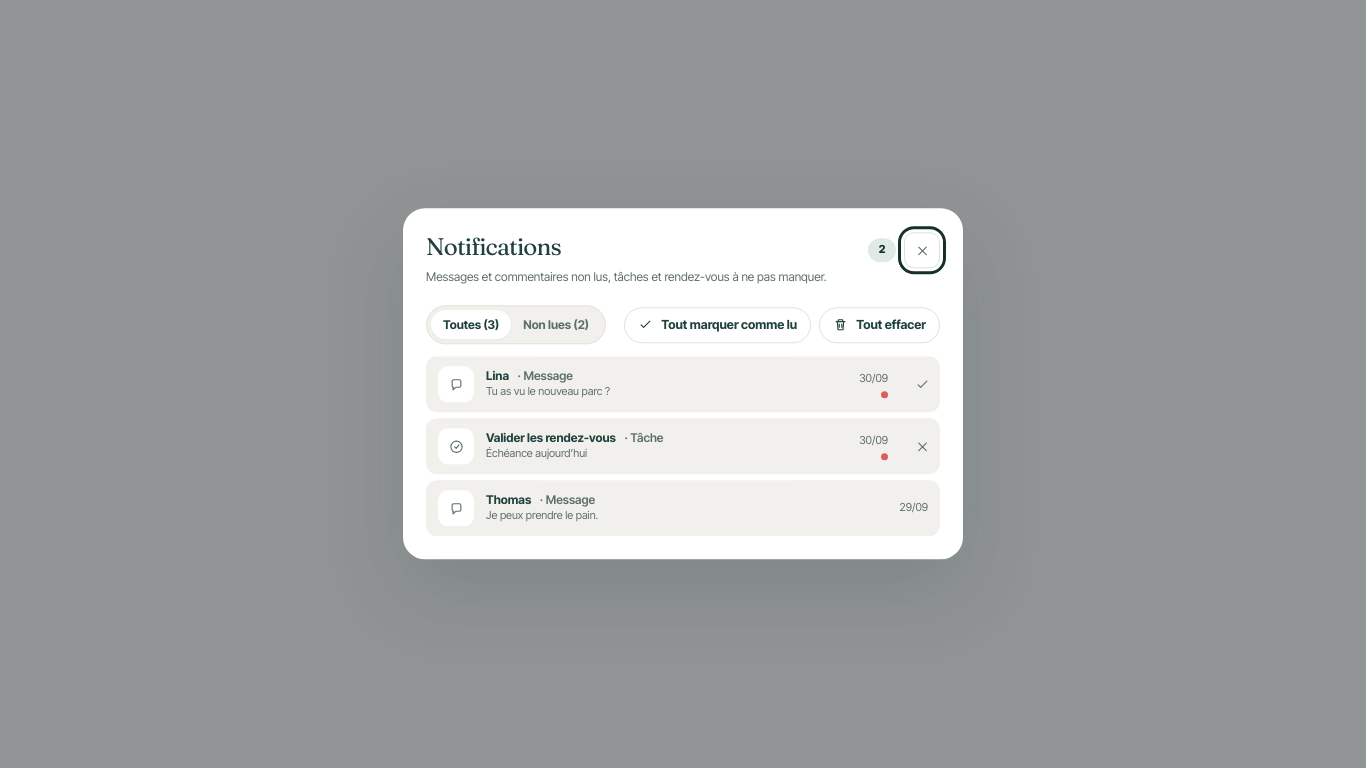
NotificationsDialog › filtre Toutes / Non lues, lus récents exclus des Non lues
The image size is (1366, 768).
Check: the text "Thomas" is shown, box [486,493,531,508]
Step 1. Click the button "Non lues (2)" → (556, 325), box [511,310,601,340]
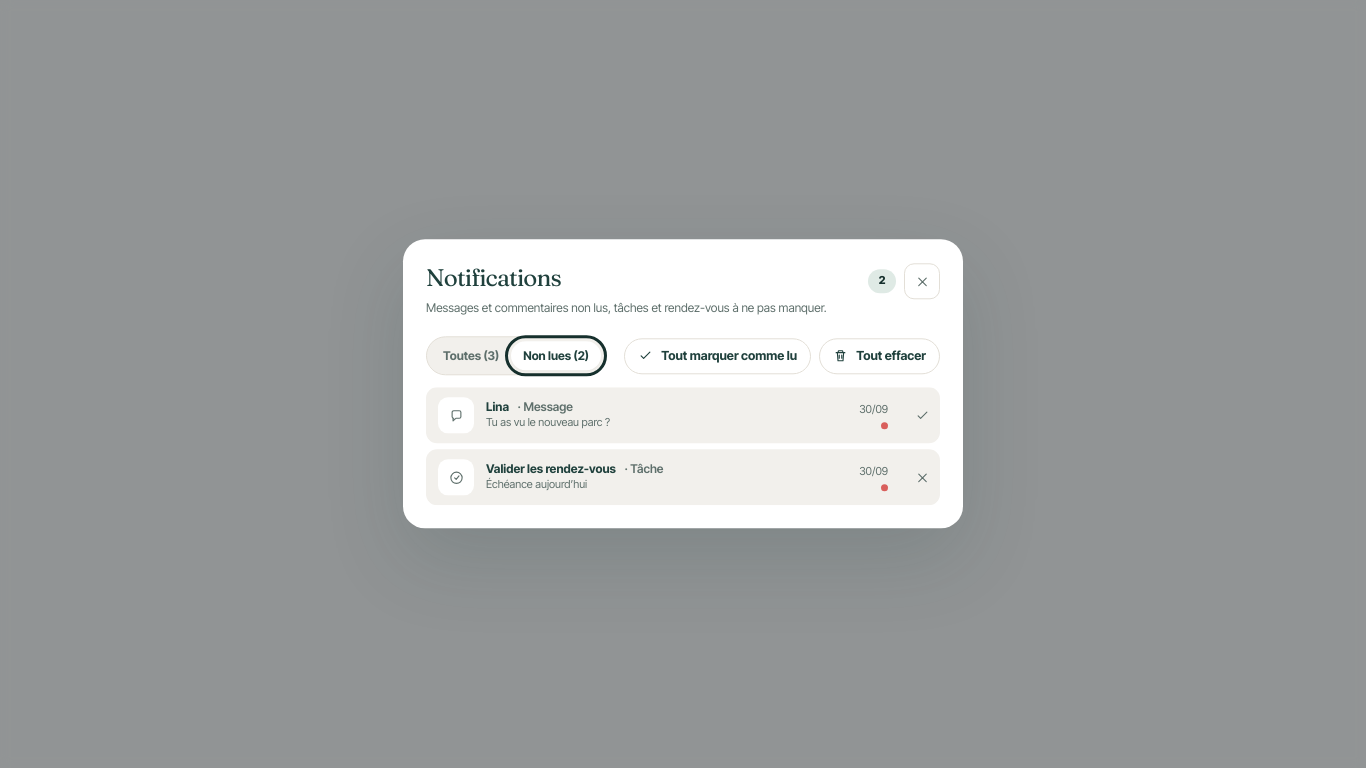
Check: the text "Lina" is shown, box [486,400,509,415]
Check: the button "Thomas" is gone
